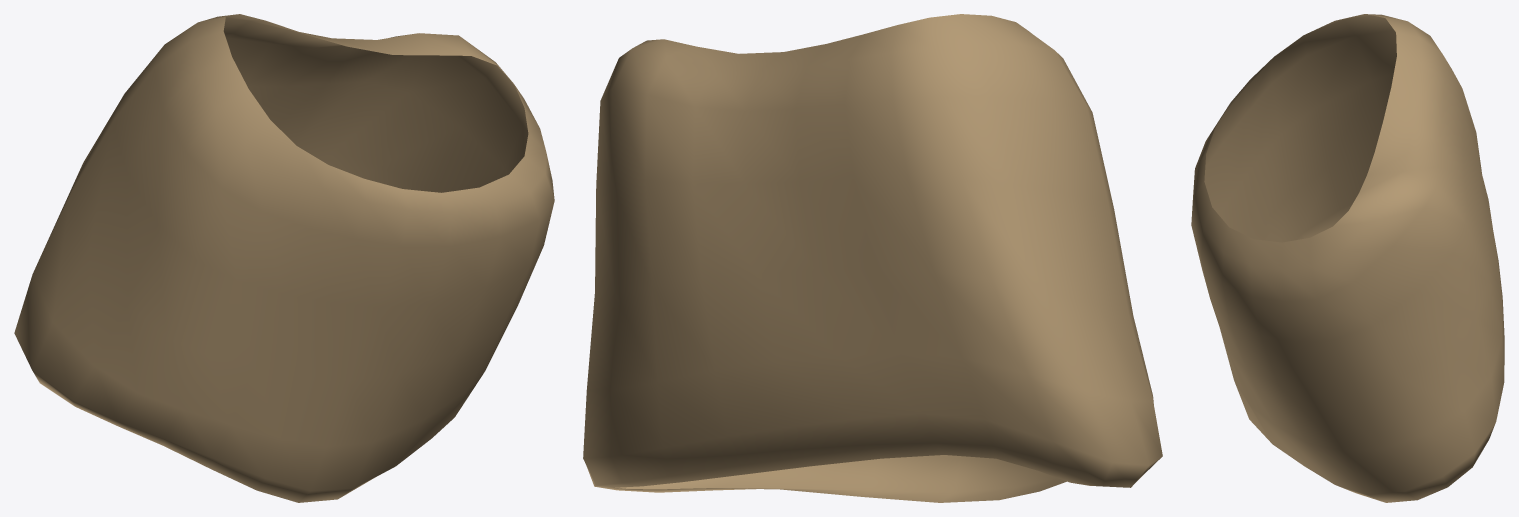
3 views of the same model, side by side, from view 1: azimuth 30°, elevation 25°; view 2: azimuth 150°, elevation 25°; view 3: azimuth 270°, elevation 25° (orthographic). The views are drawn at different scales.
Visible parts, largest first — view 1: 右侧拇趾趾间关节囊; view 2: 右侧拇趾趾间关节囊; view 3: 右侧拇趾趾间关节囊.
Part boxes in pixels (left/top/right/bottom): 右侧拇趾趾间关节囊: left=14, top=14, right=554, bottom=502; 右侧拇趾趾间关节囊: left=583, top=14, right=1162, bottom=502; 右侧拇趾趾间关节囊: left=1191, top=14, right=1504, bottom=502.
Bounding box in the file's own units: 0.0311 × 0.0285 × 0.0204.
